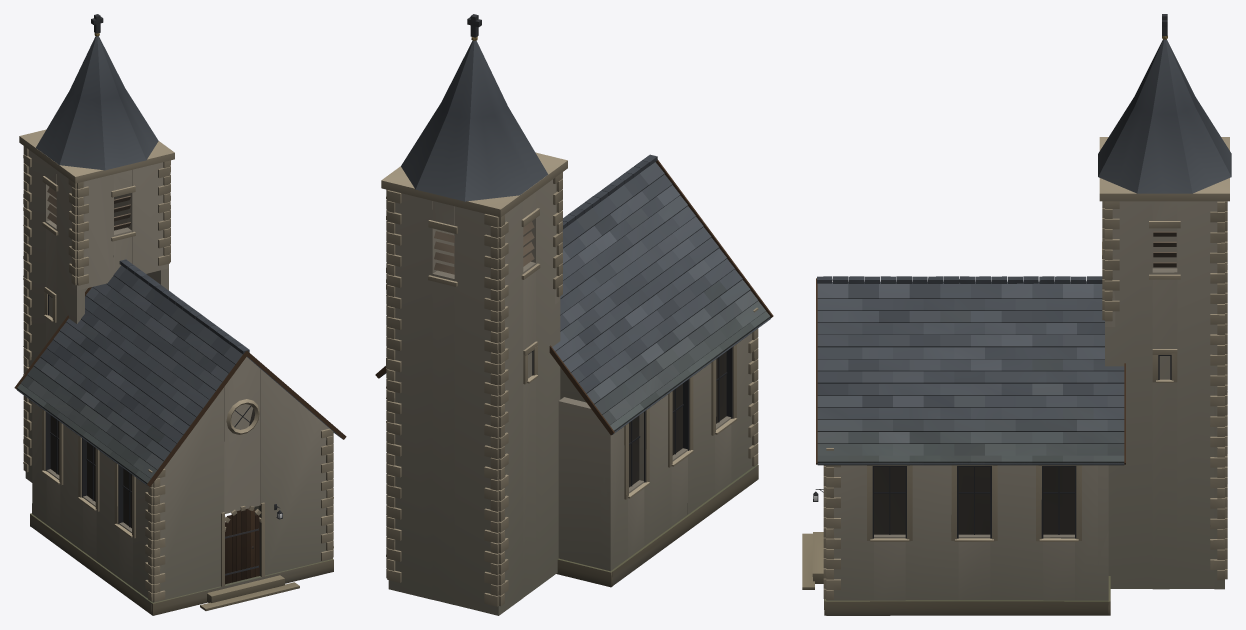
Rendered from ph_bld_v_church.glb.
3 renders of one model, left to right at view 1: azimuth 30°, elevation 25°; view 2: azimuth 150°, elevation 25°; view 3: azimuth 270°, elevation 25°, orthographic. The views are drawn at different scales.
Visible parts, largest first — view 1: ph_bld_v_church; view 2: ph_bld_v_church; view 3: ph_bld_v_church.
Part boxes in pixels (x1,y1,x2,y2): ph_bld_v_church: [14, 14, 346, 615]; ph_bld_v_church: [375, 14, 773, 615]; ph_bld_v_church: [802, 14, 1231, 615].
Bounding box in the file's own units: 7.6 × 17.19 × 12.18.
